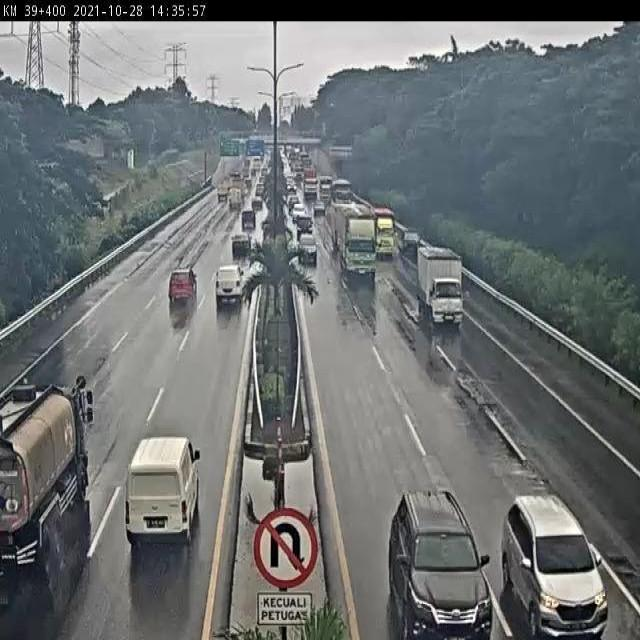big truck: (0, 370, 100, 630), (315, 198, 380, 290)
car: (386, 486, 489, 640), (505, 493, 612, 638), (120, 427, 215, 560), (158, 263, 201, 317), (206, 266, 242, 314), (399, 227, 427, 269), (296, 229, 322, 268), (229, 233, 254, 259), (293, 217, 317, 240), (236, 209, 257, 235), (290, 204, 309, 223), (310, 198, 328, 218)
small truck: (410, 247, 468, 329), (371, 207, 399, 265)
